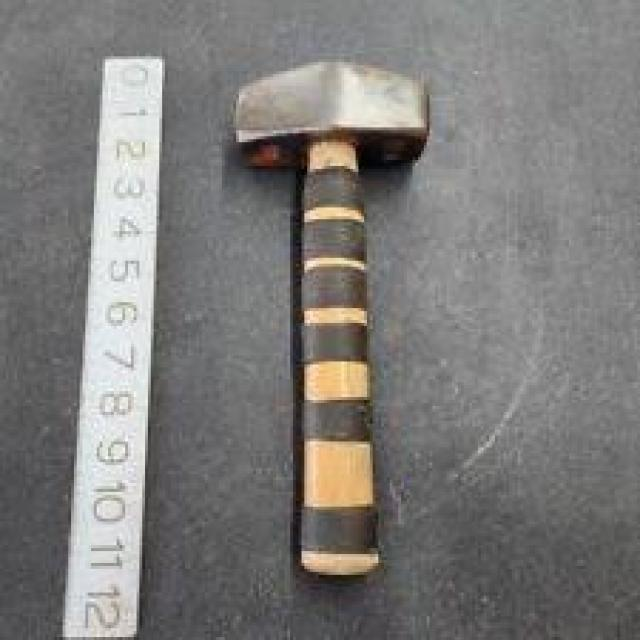hammer: (222, 47, 429, 584)
